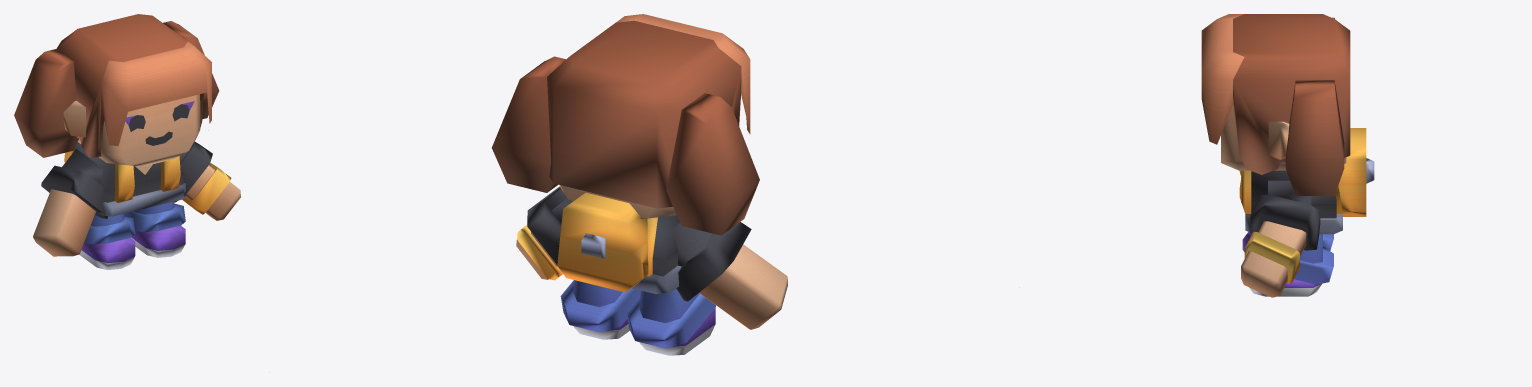
Rendered from climber_sprint_0.glb.
3 renders of one model, left to right at view 1: azimuth 30°, elevation 25°; view 2: azimuth 150°, elevation 25°; view 3: azimuth 270°, elevation 25°, orthographic. The views are drawn at different scales.
Parts seen in each view (by area): view 1: climber-sprint-0; view 2: climber-sprint-0; view 3: climber-sprint-0.
Boxes of the visible parts, x1,y1,x2,y2 form: climber-sprint-0: (14,14,240,269); climber-sprint-0: (492,14,787,355); climber-sprint-0: (1201,14,1374,297).
Bounding box in the file's own units: 1.2 × 0.6713 × 1.2.
Materials: 1 (1 with a texture image).
